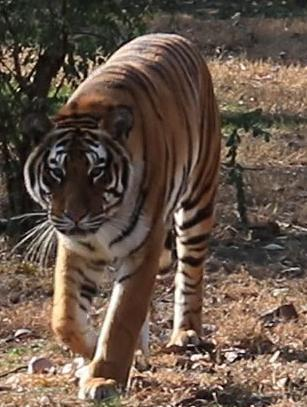tiger: (24, 33, 220, 398)
